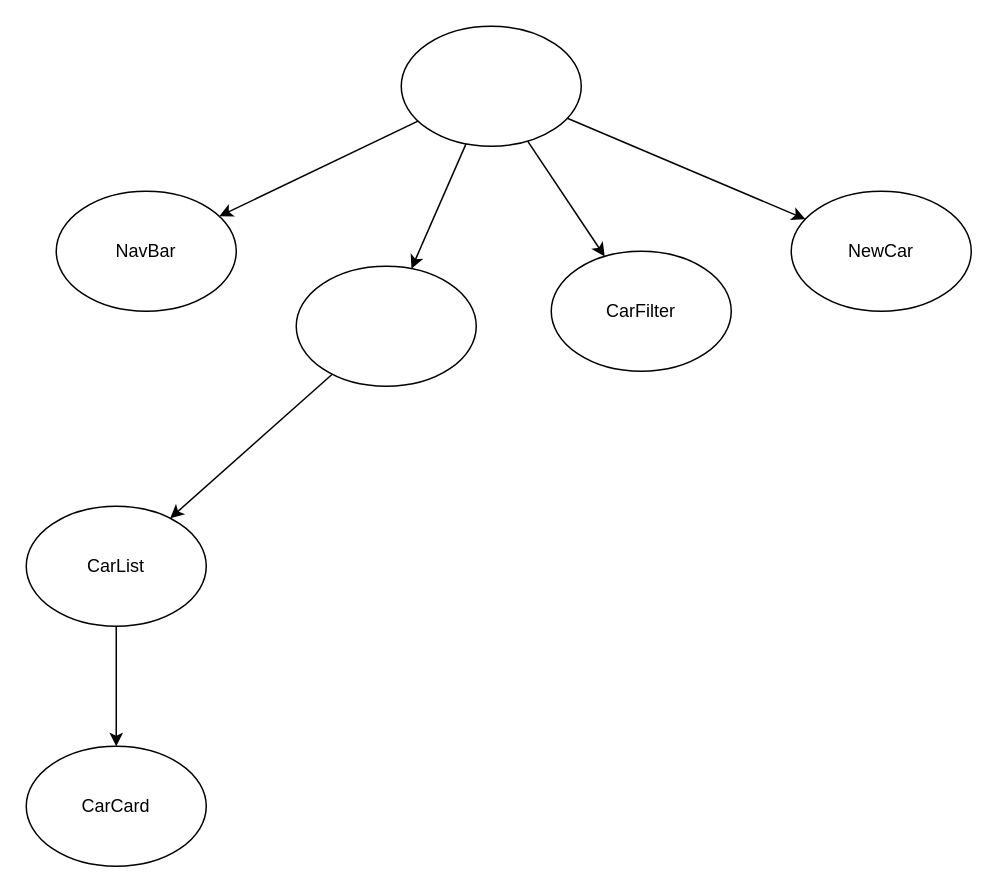
The diagram is 998 pixels wide and 893 high, and some of its shapes have lost their labels. Here are the shapes that lost their labels. From the top down, the centre of each, then its label:
point (490, 85): APP
point (385, 325): Home
